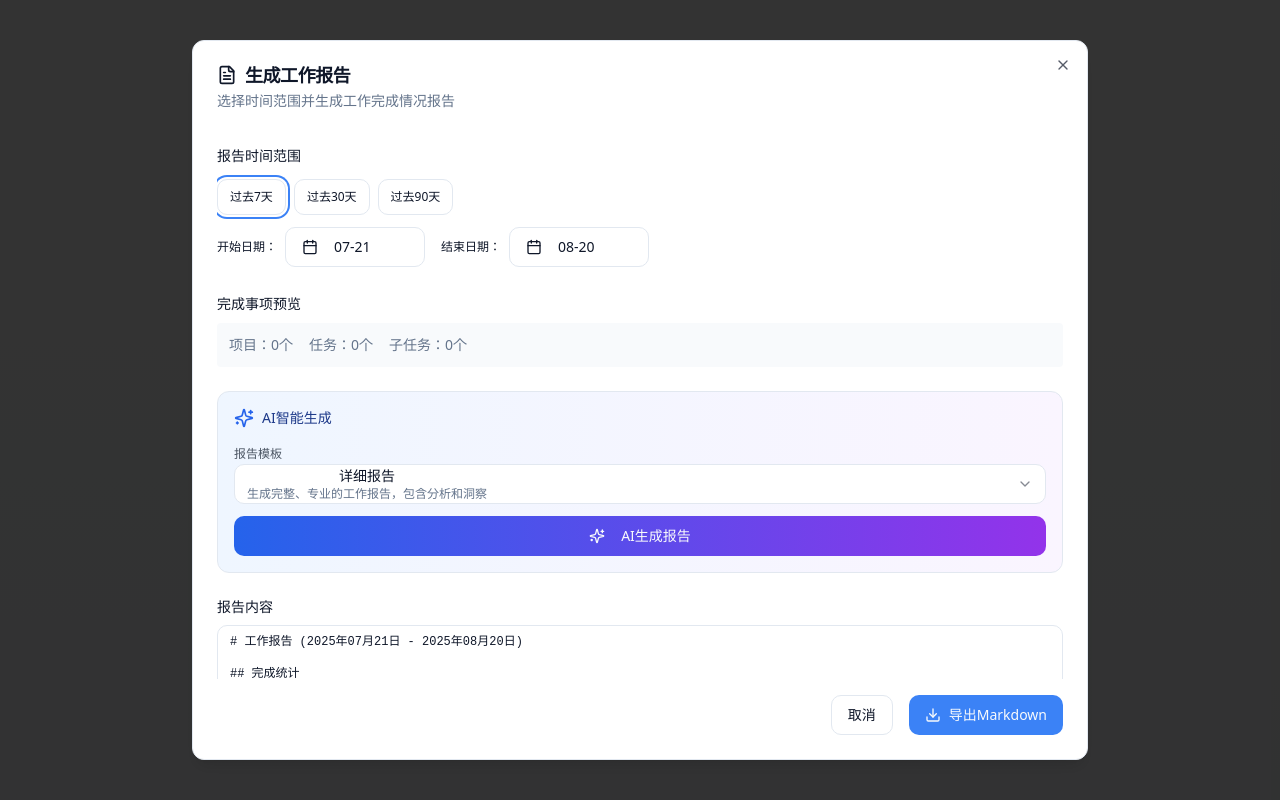
Test case: ReportModal AI功能 › AI生成流程 › 显示友好的错误信息
The width and height of the screenshot is (1280, 800).
Click the text "AI生成报告".
click(656, 536)  # box [621,526,691,546]
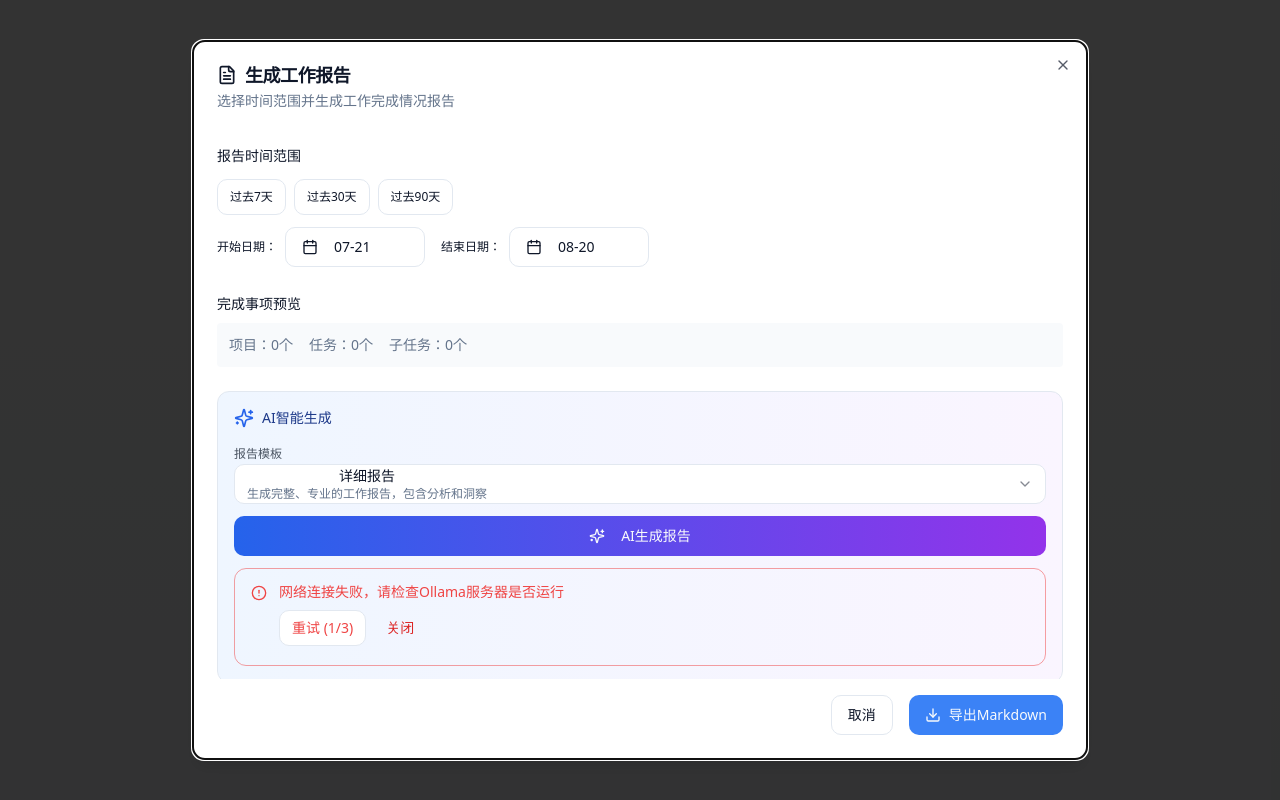
Expected: the text "网络连接失败，请检查Ollama服务器是否运行" is shown, [279,582,564,601]
